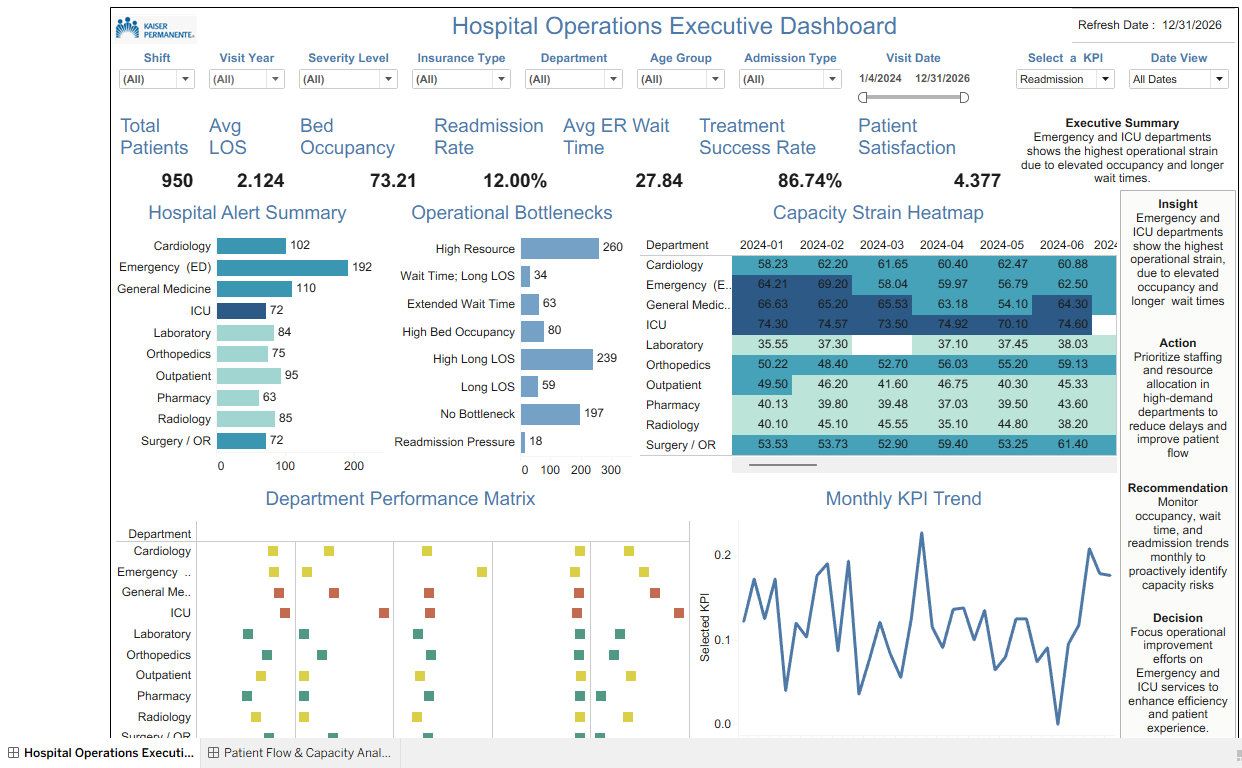

What the dashboard file says about the page in this screenshot:
{"tool":"tableau","page":{"name":"Hospital Operations Executive Dashboard","canvas":[1145,800],"ordinal":0},"visuals":[{"type":"title","box":[9,9,1127,35]},{"type":"worksheet","title":"Date Refresh ","mark":"Polygon","rows":["visit_date"],"box":[970,9,164,35]},{"type":"image","param":"Image/Kaiser Logo.png","box":[10,11,86,39]},{"type":"filter","title":"Capacity Strain Heatmap","param":"[federated.16tmy5q0wsebc01do4ov60bm0m2q].[none:shift:nk]","box":[10,48,89.8,60]},{"type":"filter","title":"Hospital Alert Summary ","param":"[federated.16tmy5q0wsebc01do4ov60bm0m2q].[yr:visit_date:ok]","box":[99.8,48,89.8,60]},{"type":"filter","title":"Capacity Strain Heatmap","param":"[federated.16tmy5q0wsebc01do4ov60bm0m2q].[none:severity_level:nk]","box":[189.5,48,113,60]},{"type":"filter","title":"Capacity Strain Heatmap","param":"[federated.16tmy5q0wsebc01do4ov60bm0m2q].[none:insurance_type:nk]","box":[302.5,48,113,60]},{"type":"filter","title":"Capacity Strain Heatmap","param":"[federated.16tmy5q0wsebc01do4ov60bm0m2q].[none:department:nk]","box":[415.5,48,112,60]},{"type":"filter","title":"Capacity Strain Heatmap","param":"[federated.16tmy5q0wsebc01do4ov60bm0m2q].[none:age_group:nk]","box":[527.5,48,102,60]},{"type":"filter","title":"Capacity Strain Heatmap","param":"[federated.16tmy5q0wsebc01do4ov60bm0m2q].[none:admission_type:nk]","box":[629.5,48,117,60]},{"type":"filter","title":"Capacity Strain Heatmap","param":"[federated.16tmy5q0wsebc01do4ov60bm0m2q].[none:visit_date:qk]","box":[748,48,127,60]},{"type":"parameter","param":"[Parameters].[Parameter 1196007160365057]","box":[907,48,113.5,60]},{"type":"parameter","param":"[Parameters].[Parameter 1196007862591496]","box":[1020.5,48,113.5,60]},{"type":"worksheet","title":"Total Patients","mark":"Automatic","box":[10,108,89.4,89]},{"type":"worksheet","title":"Avg LOS","mark":"Automatic","box":[99.4,108,91,89]},{"type":"worksheet","title":"Bed Occupancy","mark":"Automatic","box":[190.4,108,133.6,89]},{"type":"worksheet","title":"Readmission Rate ","mark":"Automatic","box":[324,108,129.4,89]},{"type":"worksheet","title":"Avg ER Wait Time","mark":"Automatic","box":[453.4,108,136,89]},{"type":"worksheet","title":"Treatment Success Rate","mark":"Automatic","box":[589.4,108,158.9,89]},{"type":"worksheet","title":"Patient Satisfaction","mark":"Automatic","box":[748.3,108,158.9,89]},{"type":"text","box":[907.2,108,226.8,89]},{"type":"text","box":[1019,192,114,125]},{"type":"worksheet","title":"Hospital Alert Summary ","mark":"Automatic","rows":["department"],"cols":["patient_id"],"box":[10,195,276,287]},{"type":"worksheet","title":"Operational Bottlenecks","mark":"Automatic","cols":["bottleneck_reason"],"box":[286,195,248,287]},{"type":"worksheet","title":"Capacity Strain Heatmap","mark":"Automatic","rows":["department"],"cols":["month"],"box":[534,195,485,287]},{"type":"text","box":[1019,328,114,144]},{"type":"text","box":[1019,472,114,133]},{"type":"worksheet","title":"Department Performance Matrix ","mark":"Square","rows":["department"],"cols":["bed_occupancy_rate","Calculation_0879897280897025","Calculation_0879897281646596","patient_satisfaction_score","Calculation_0879897281449987"],"box":[10,481,582,308]},{"type":"worksheet","title":"Monthly KPI Trend ","mark":"Line","rows":["Calculation_1196007161036802"],"cols":["month"],"box":[592,481,425,308]},{"type":"text","box":[1019,605,114,140]}]}

Visuals, with their boxes on the page's 1145x800 design canvas (x1, y1, x2, y2). These are canvas units, not pixel positions in the 1242x768 screenshot, which may show the page scaled, cropped or inside an application window:
title: (left=9, top=9, right=1136, bottom=44)
"Date Refresh " worksheet (Polygon marks): (left=970, top=9, right=1134, bottom=44)
image: (left=10, top=11, right=96, bottom=50)
"Capacity Strain Heatmap" filter: (left=10, top=48, right=100, bottom=108)
"Hospital Alert Summary " filter: (left=100, top=48, right=190, bottom=108)
"Capacity Strain Heatmap" filter: (left=190, top=48, right=302, bottom=108)
"Capacity Strain Heatmap" filter: (left=302, top=48, right=416, bottom=108)
"Capacity Strain Heatmap" filter: (left=416, top=48, right=528, bottom=108)
"Capacity Strain Heatmap" filter: (left=528, top=48, right=630, bottom=108)
"Capacity Strain Heatmap" filter: (left=630, top=48, right=746, bottom=108)
"Capacity Strain Heatmap" filter: (left=748, top=48, right=875, bottom=108)
parameter: (left=907, top=48, right=1020, bottom=108)
parameter: (left=1020, top=48, right=1134, bottom=108)
"Total Patients" worksheet: (left=10, top=108, right=99, bottom=197)
"Avg LOS" worksheet: (left=99, top=108, right=190, bottom=197)
"Bed Occupancy" worksheet: (left=190, top=108, right=324, bottom=197)
"Readmission Rate " worksheet: (left=324, top=108, right=453, bottom=197)
"Avg ER Wait Time" worksheet: (left=453, top=108, right=589, bottom=197)
"Treatment Success Rate" worksheet: (left=589, top=108, right=748, bottom=197)
"Patient Satisfaction" worksheet: (left=748, top=108, right=907, bottom=197)
text: (left=907, top=108, right=1134, bottom=197)
text: (left=1019, top=192, right=1133, bottom=317)
"Hospital Alert Summary " worksheet: (left=10, top=195, right=286, bottom=482)
"Operational Bottlenecks" worksheet: (left=286, top=195, right=534, bottom=482)
"Capacity Strain Heatmap" worksheet: (left=534, top=195, right=1019, bottom=482)
text: (left=1019, top=328, right=1133, bottom=472)
text: (left=1019, top=472, right=1133, bottom=605)
"Department Performance Matrix " worksheet (Square marks): (left=10, top=481, right=592, bottom=789)
"Monthly KPI Trend " worksheet (Line marks): (left=592, top=481, right=1017, bottom=789)
text: (left=1019, top=605, right=1133, bottom=745)
